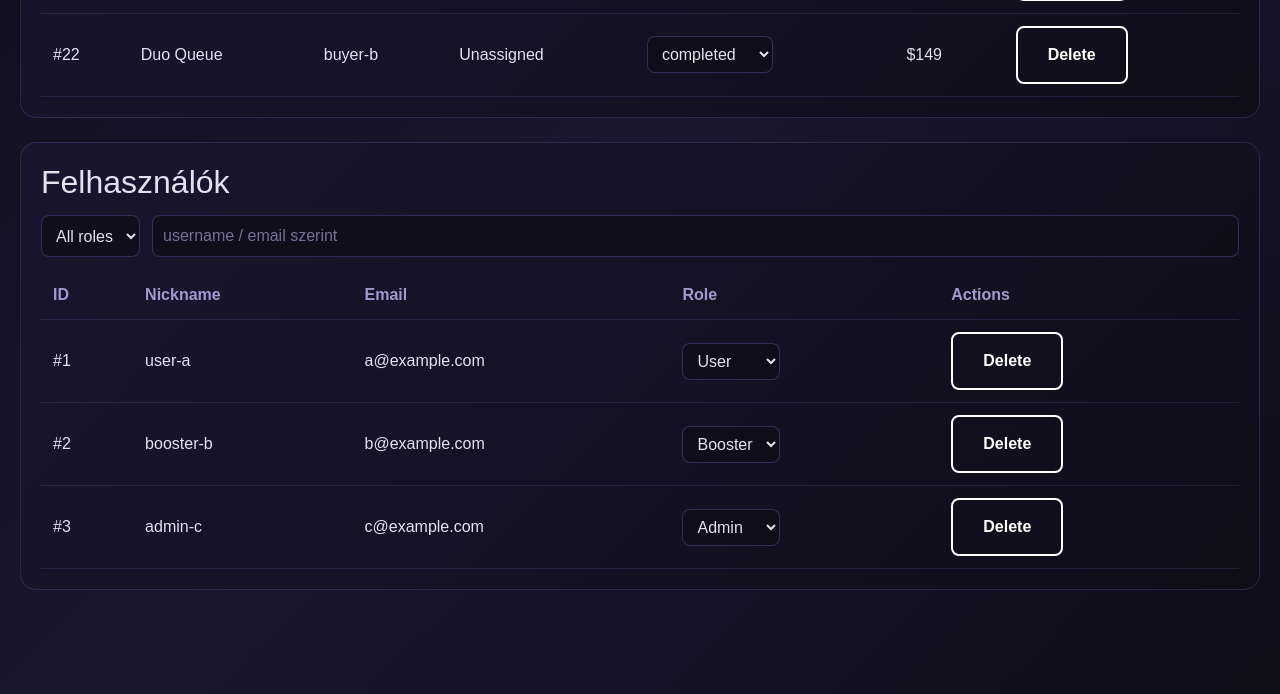
it: Admin Dashboard › delete user shows backend error message on failure
(page scrolled)
Click the button "Delete" in the row of "user-a". click: point(1007, 361)
box: x1=951 y1=332 x2=1063 y2=390
(page scrolled)
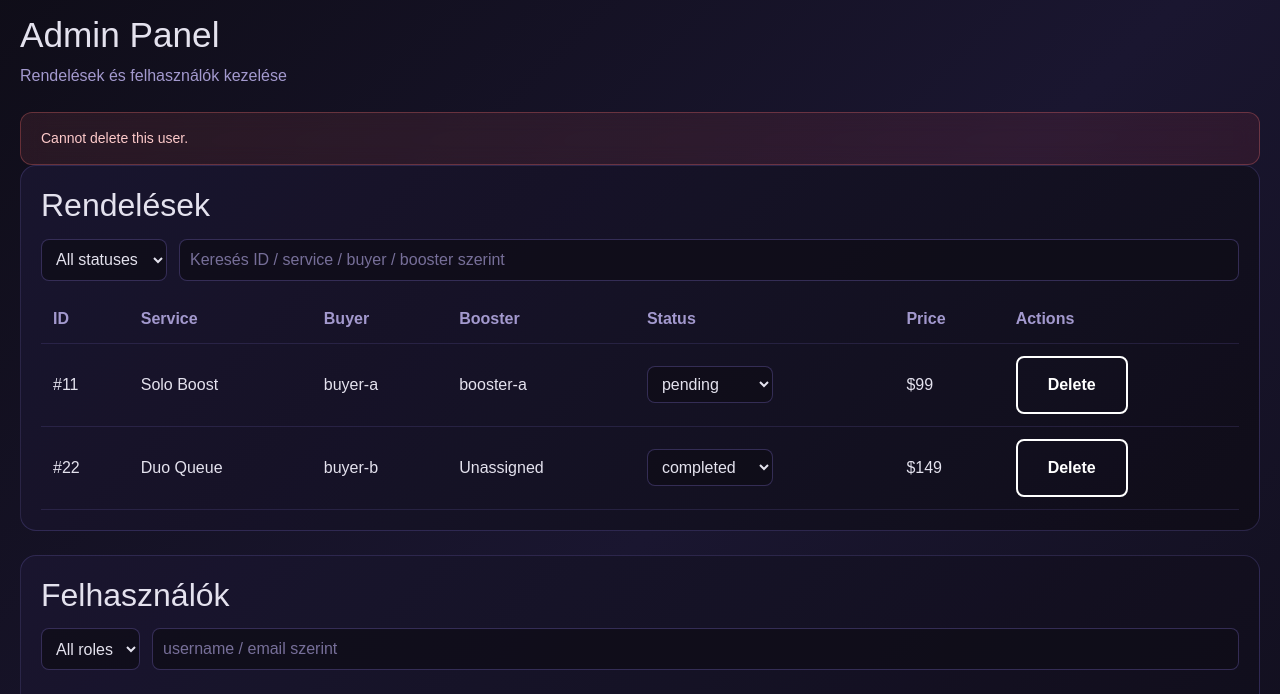
Expected: the text "Cannot delete this user." is shown, x1=20 y1=112 x2=1260 y2=165
